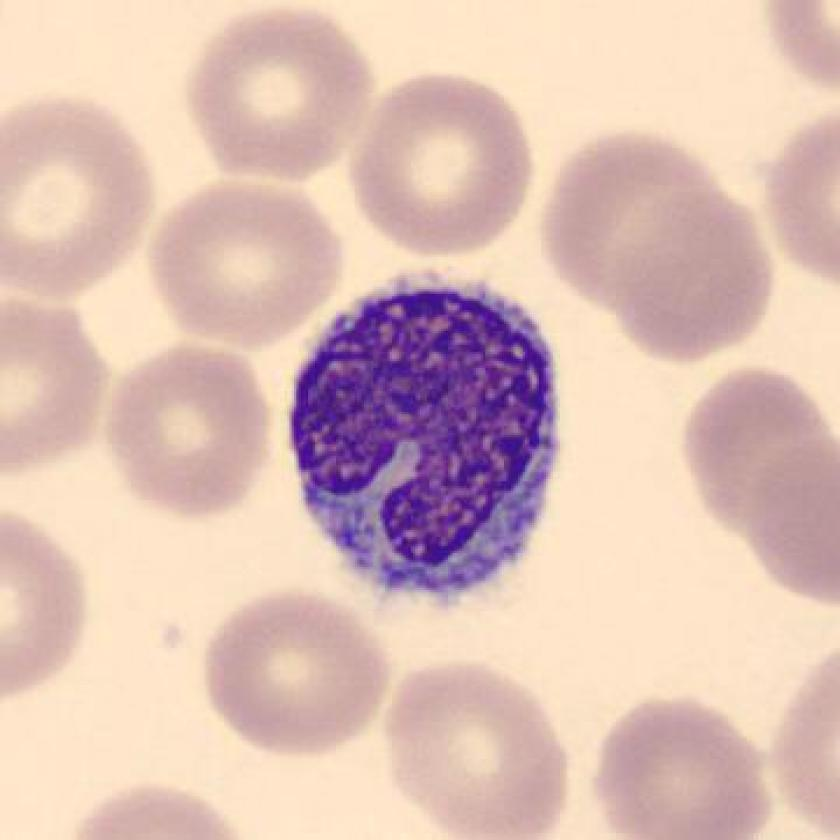monocyte: (267, 251, 580, 621)
